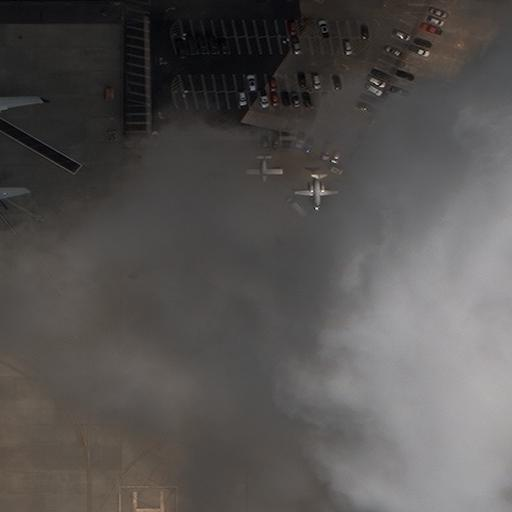Large Civil Transport: (0, 84, 36, 213)
Small Civil Transport: (294, 172, 337, 207), (245, 154, 283, 184)
